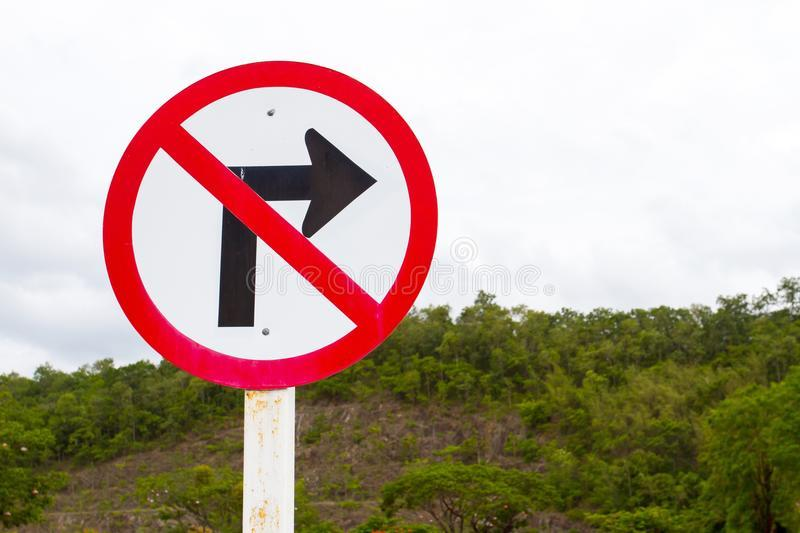no_right_turn: (101, 61, 439, 390)
